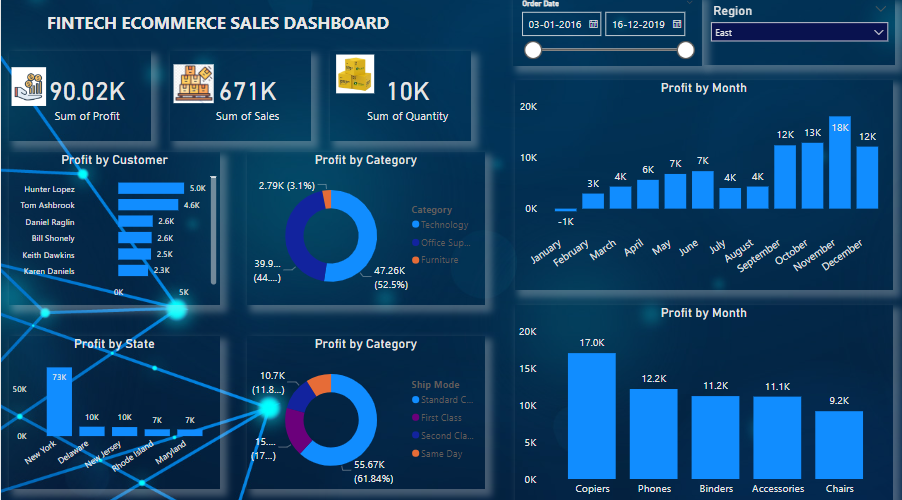

This screenshot's page, from the dashboard's own definition file:
{"tool":"powerbi","page":{"name":"Page 1","canvas":[1280,720],"ordinal":0},"visuals":[{"type":"textbox","box":[39.7,17,535.7,49.6],"z":0},{"type":"columnChart","title":" Profit by Month","fields":{"Category":["Orders.Order Date.Variation.Date Hierarchy.Year","Orders.Order Date.Variation.Date Hierarchy.Quarter","Orders.Order Date.Variation.Date Hierarchy.Month","Orders.Order Date.Variation.Date Hierarchy.Day"],"Y":["Sum(Orders.Profit)"]},"box":[728.5,120.5,535.7,297.6],"z":1000},{"type":"columnChart","title":" Profit by Month","fields":{"Y":["Sum(Orders.Profit)"],"Category":["Orders.Sub-Category"]},"box":[728.5,439.4,535.7,280.6],"z":2000},{"type":"card","fields":{"Values":["Sum(Orders.Profit)"]},"box":[11.6,80,201.3,127.7],"z":3000},{"type":"card","fields":{"Values":["Sum(Orders.Sales)"]},"box":[240,80,200,127.7],"z":4000},{"type":"card","fields":{"Values":["Sum(Orders.Quantity)"]},"box":[465.8,80,200,127.7],"z":5000},{"type":"slicer","fields":{"Values":["Orders.Order Date"]},"box":[725.5,0,268,99.8],"z":6000},{"type":"slicer","fields":{"Values":["Orders.Region"]},"box":[996.3,5.7,270.8,94.1],"z":7000},{"type":"donutChart","title":"Profit by Category","fields":{"Y":["Sum(Orders.Profit)"],"Category":["Orders.Category"]},"box":[348.7,222.5,337.3,216.9],"z":8000},{"type":"donutChart","title":"Profit by Category","fields":{"Y":["Sum(Orders.Profit)"],"Category":["Orders.Ship Mode"]},"box":[348.7,483.3,337.3,216.9],"z":9000},{"type":"clusteredBarChart","title":" Profit by Customer","fields":{"Y":["Sum(Orders.Profit)"],"Category":["Orders.Customer Name"]},"box":[11.3,222.5,299.1,216.9],"z":10000},{"type":"columnChart","title":"Profit by State","fields":{"Y":["Sum(Orders.Profit)"],"Category":["Orders.State"]},"box":[11.3,483.3,299.1,216.9],"z":11000},{"type":"image","box":[10.3,89,59.4,81.3],"z":12000},{"type":"image","box":[240,89,67.1,72.3],"z":13000},{"type":"image","box":[455.5,80,92.9,64.5],"z":14000}]}

Visuals, with their boxes in screenshot pixels (x1, y1, x2, y2), scaled from the page's 1280x720 canvas onto the 902x500 screenshot:
textbox: bbox=(28, 12, 405, 46)
" Profit by Month" columnChart: bbox=(513, 84, 891, 290)
" Profit by Month" columnChart: bbox=(513, 305, 891, 499)
card - Sum(Orders.Profit): bbox=(8, 56, 150, 144)
card - Sum(Orders.Sales): bbox=(169, 56, 310, 144)
card - Sum(Orders.Quantity): bbox=(328, 56, 469, 144)
slicer - Orders.Order Date: bbox=(511, 0, 700, 69)
slicer - Orders.Region: bbox=(702, 4, 893, 69)
"Profit by Category" donutChart: bbox=(246, 155, 483, 305)
"Profit by Category" donutChart: bbox=(246, 336, 483, 486)
" Profit by Customer" clusteredBarChart: bbox=(8, 155, 219, 305)
"Profit by State" columnChart: bbox=(8, 336, 219, 486)
image: bbox=(7, 62, 49, 118)
image: bbox=(169, 62, 216, 112)
image: bbox=(321, 56, 386, 100)
